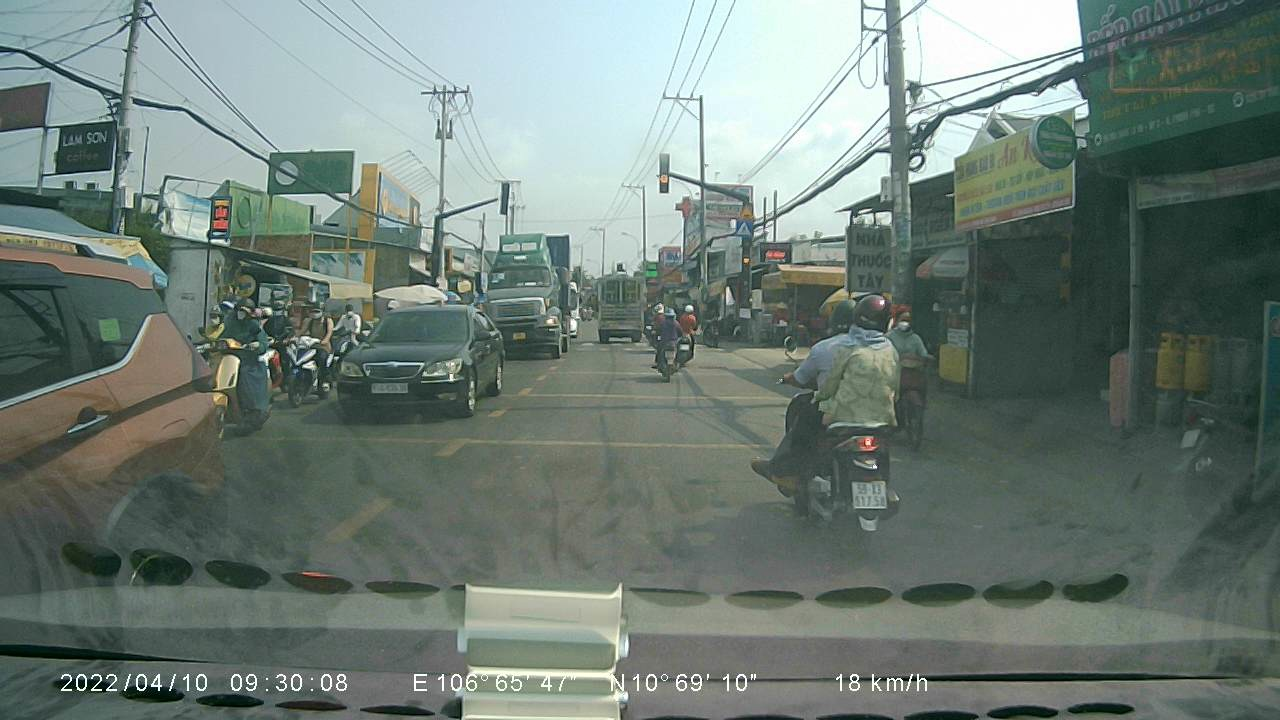Nguoi di bo: (734, 216, 754, 237)
